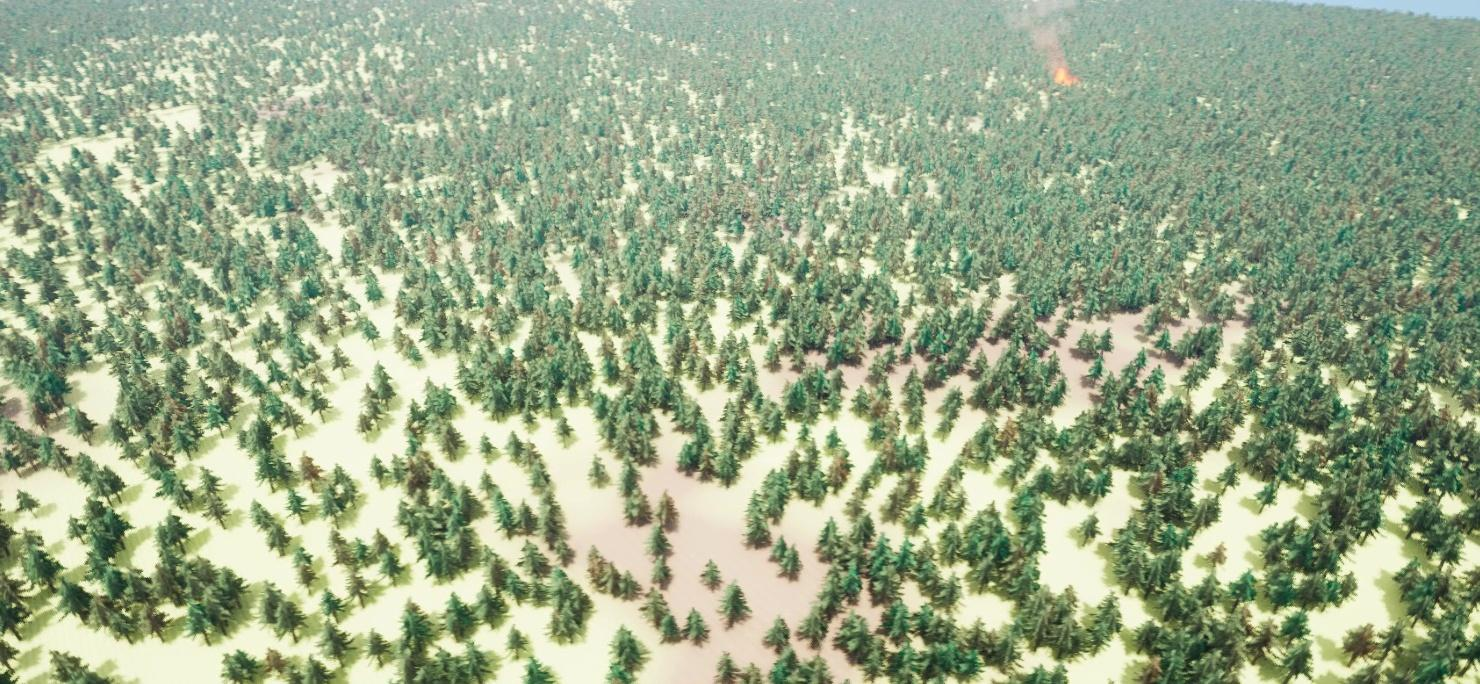fire: (1046, 62, 1080, 85)
smoke: (1005, 0, 1084, 67)
